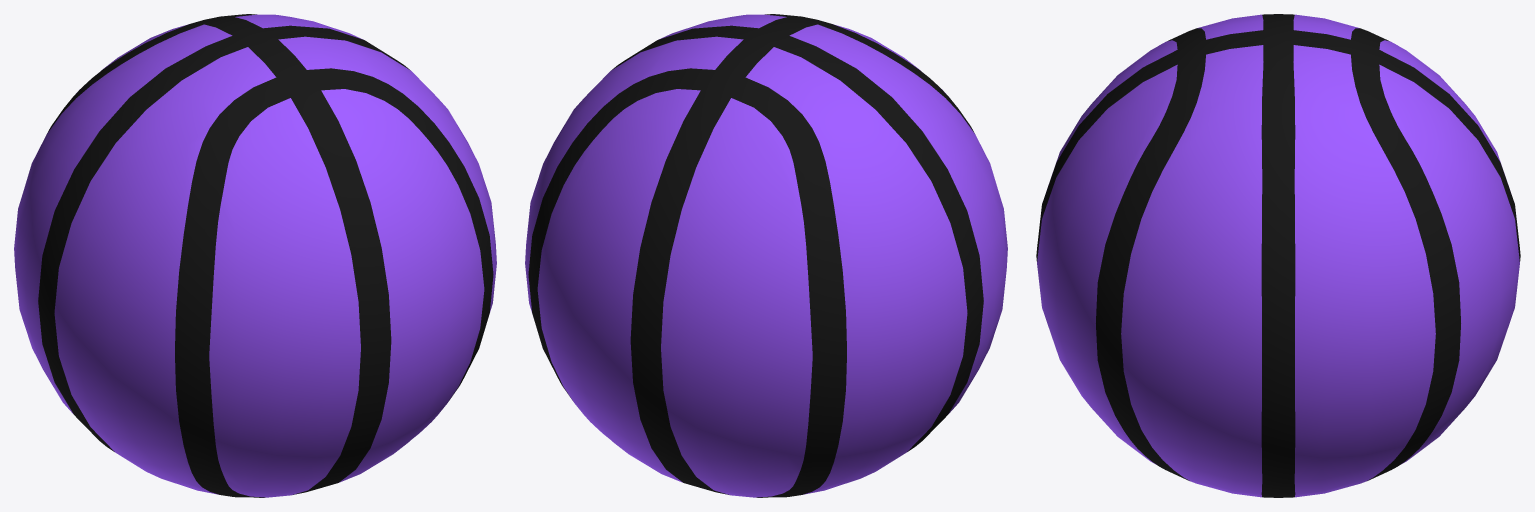
Rendered from Ball Violet.fbx.
The picture shows the model from 3 angles, left to right: view 1: azimuth 30°, elevation 25°; view 2: azimuth 150°, elevation 25°; view 3: azimuth 270°, elevation 25°; orthographic projection.
Parts seen in each view (by area): view 1: Ball Blue; view 2: Ball Blue; view 3: Ball Blue.
Part boxes in pixels (<box>): Ball Blue: <box>14,14,496,497</box>; Ball Blue: <box>525,14,1007,497</box>; Ball Blue: <box>1036,14,1520,497</box>.
Bounding box in the file's own units: 88.89 × 88.89 × 88.89.
